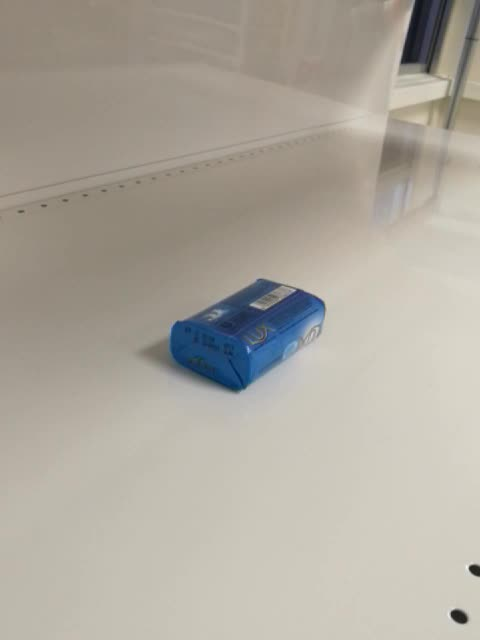soap: (170, 278, 327, 393)
